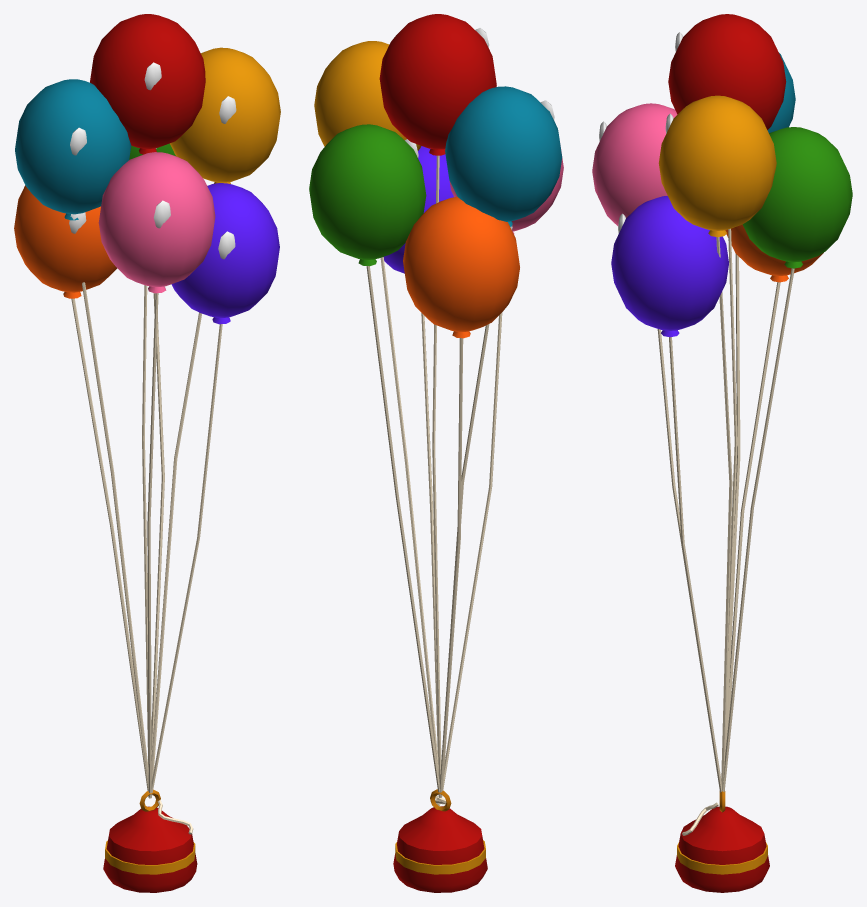
Rendered from BalloonBunch.fbx.
3 views of the same model, side by side, from view 1: azimuth 30°, elevation 25°; view 2: azimuth 150°, elevation 25°; view 3: azimuth 270°, elevation 25° (orthographic).
Visible parts, largest first — view 1: BalloonBunch; view 2: BalloonBunch; view 3: BalloonBunch.
Boxes of the visible parts, bbox=[...] form: BalloonBunch: bbox=[14, 14, 280, 892]; BalloonBunch: bbox=[309, 14, 563, 892]; BalloonBunch: bbox=[592, 14, 852, 892].
Bounding box in the file's own units: 2.94 × 9.93 × 2.74.
